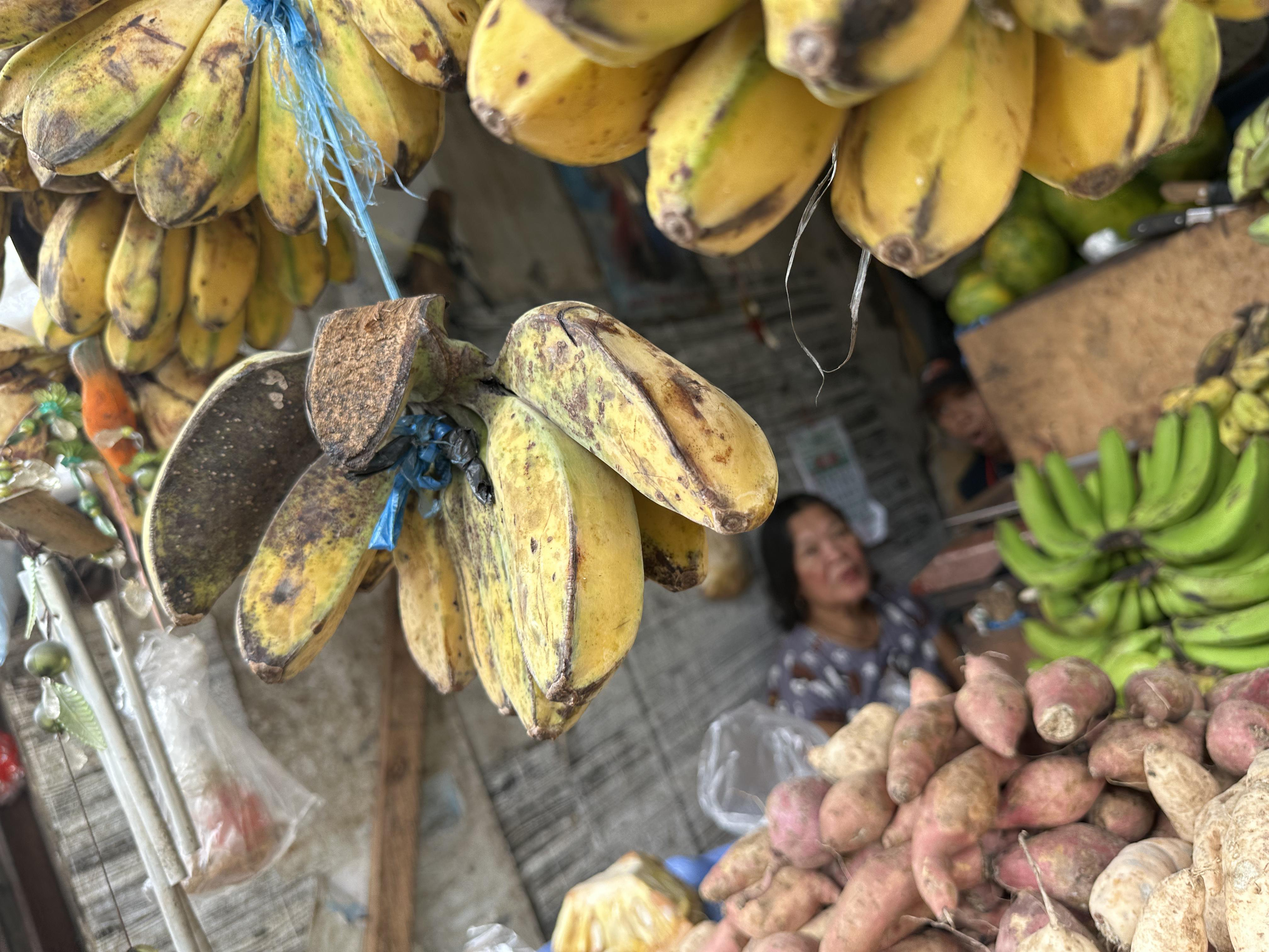underripe: (144, 301, 781, 741), (465, 0, 1269, 277), (0, 0, 319, 235), (32, 189, 358, 374)
